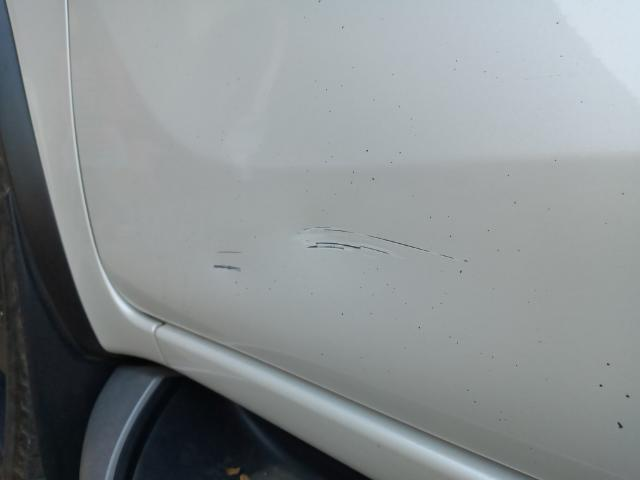scratch: (294, 218, 468, 265), (212, 245, 249, 274)
